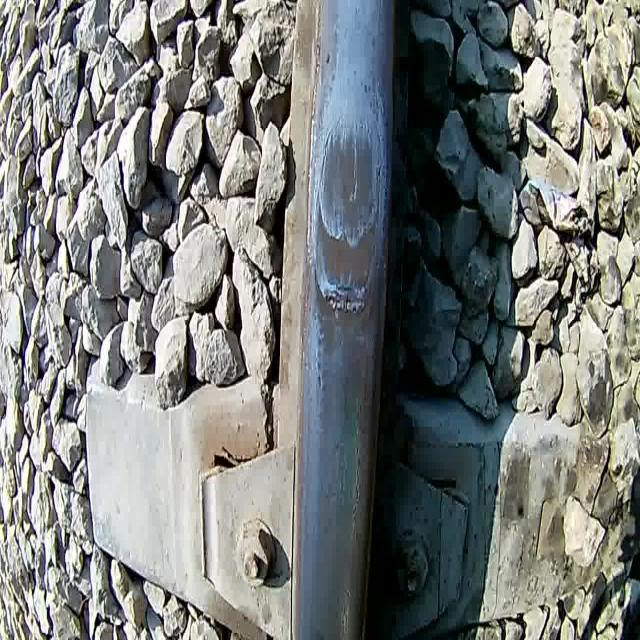Squats: (301, 104, 393, 378)
